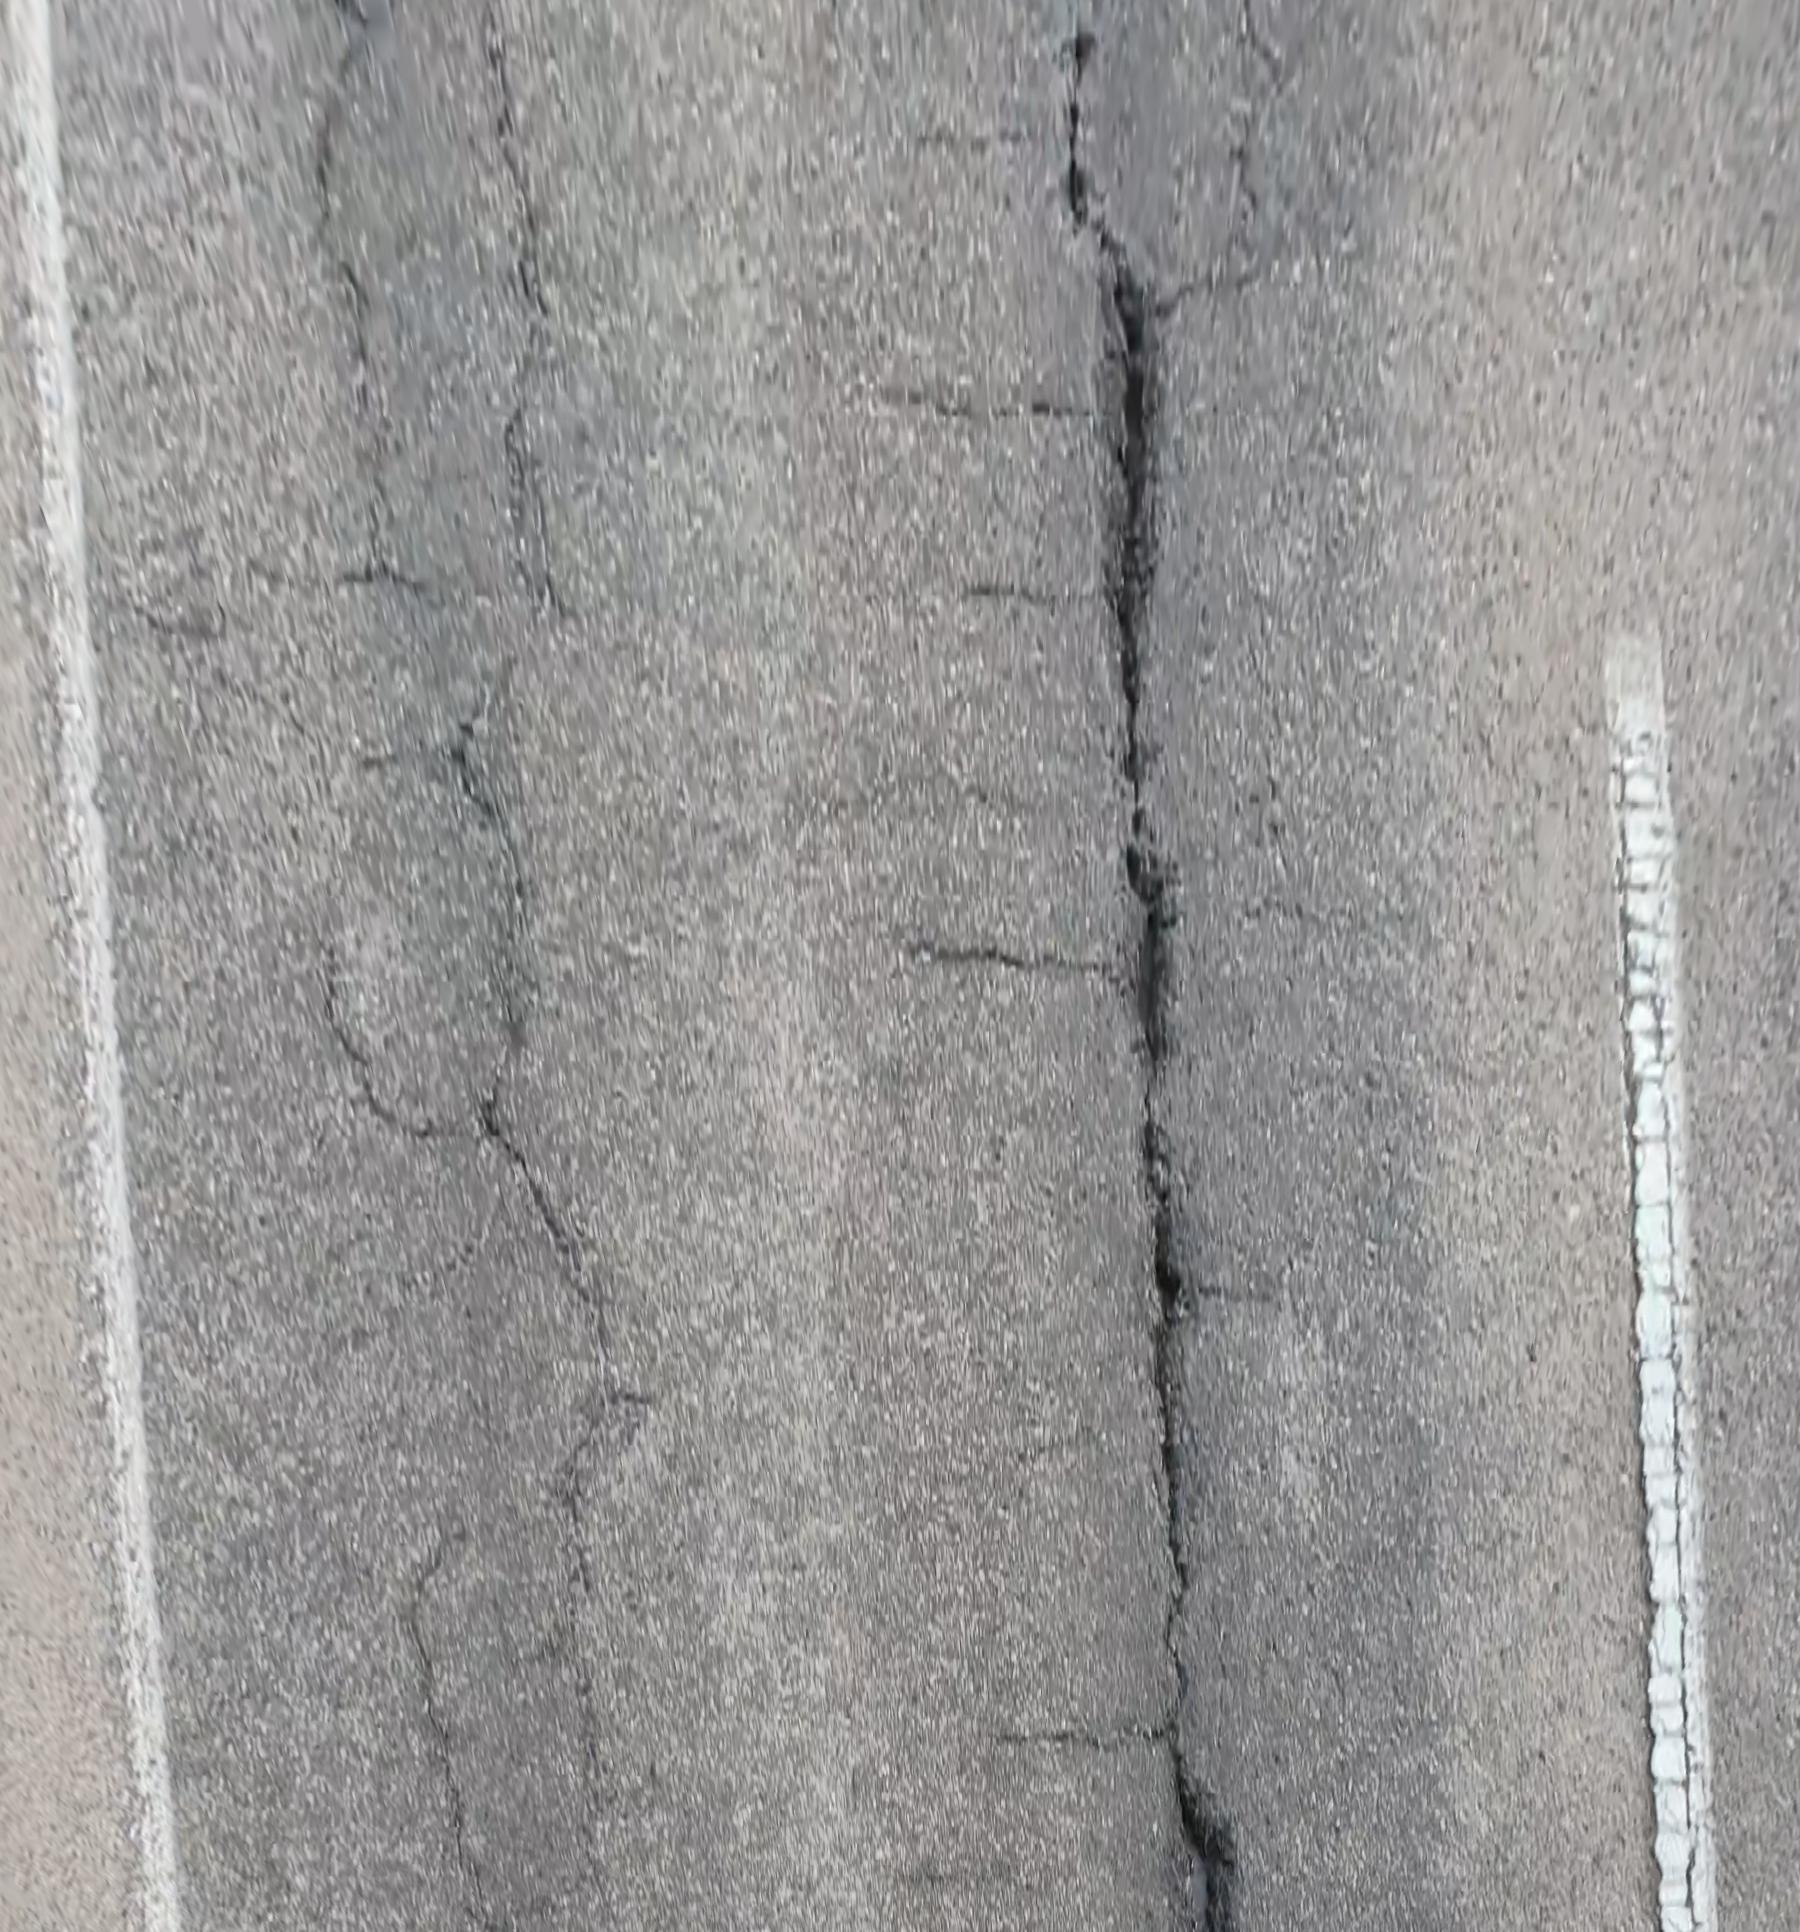pothole: (1089, 210, 1162, 783), (1150, 1778, 1269, 1932), (1123, 804, 1188, 1049)
